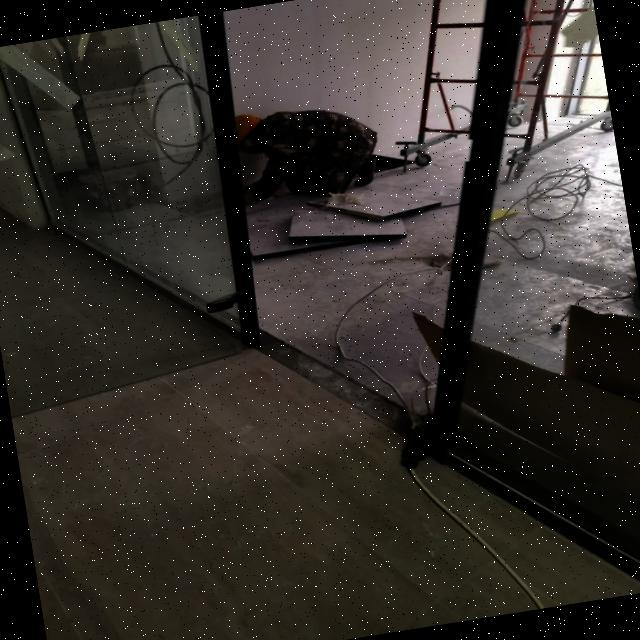Helmet: (235, 112, 267, 147)
NoJacket: (259, 101, 367, 190)
